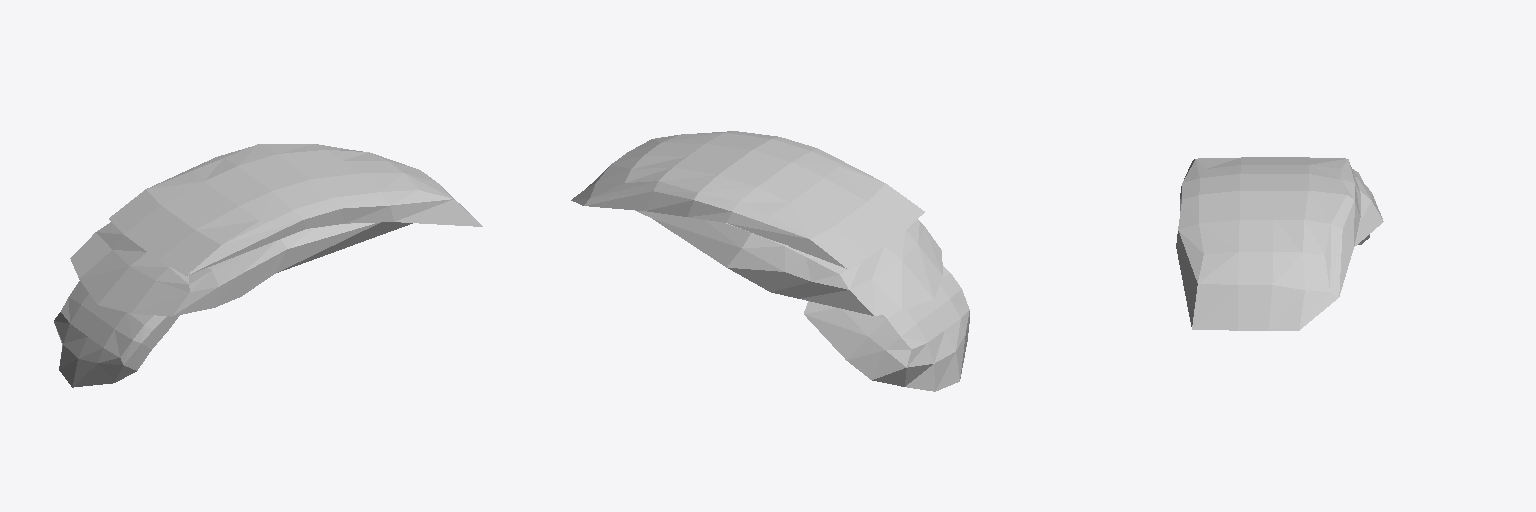
File: Tree Top.obj
The picture shows the model from 3 angles: view 1: azimuth 30°, elevation 25°; view 2: azimuth 150°, elevation 25°; view 3: azimuth 270°, elevation 25°; orthographic projection.
Parts seen in each view (by area): view 1: pCube1, pCube2, pCube3; view 2: pCube1, pCube2, pCube3; view 3: pCube1, pCube2.
Part boxes in pixels (left/top/right/bottom): pCube1: left=109, top=144, right=482, bottom=275; pCube2: left=70, top=222, right=412, bottom=316; pCube3: left=54, top=281, right=179, bottom=387; pCube1: left=571, top=131, right=924, bottom=268; pCube2: left=635, top=210, right=942, bottom=315; pCube3: left=804, top=266, right=969, bottom=391; pCube1: left=1176, top=157, right=1360, bottom=330; pCube2: left=1180, top=169, right=1383, bottom=246.
Size of the model in its own units: 3038 by 1279 by 1455.